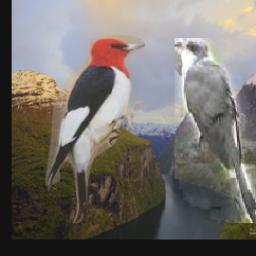Cuckoo: (176, 38, 256, 223)
Woodpecker: (45, 36, 145, 224)
